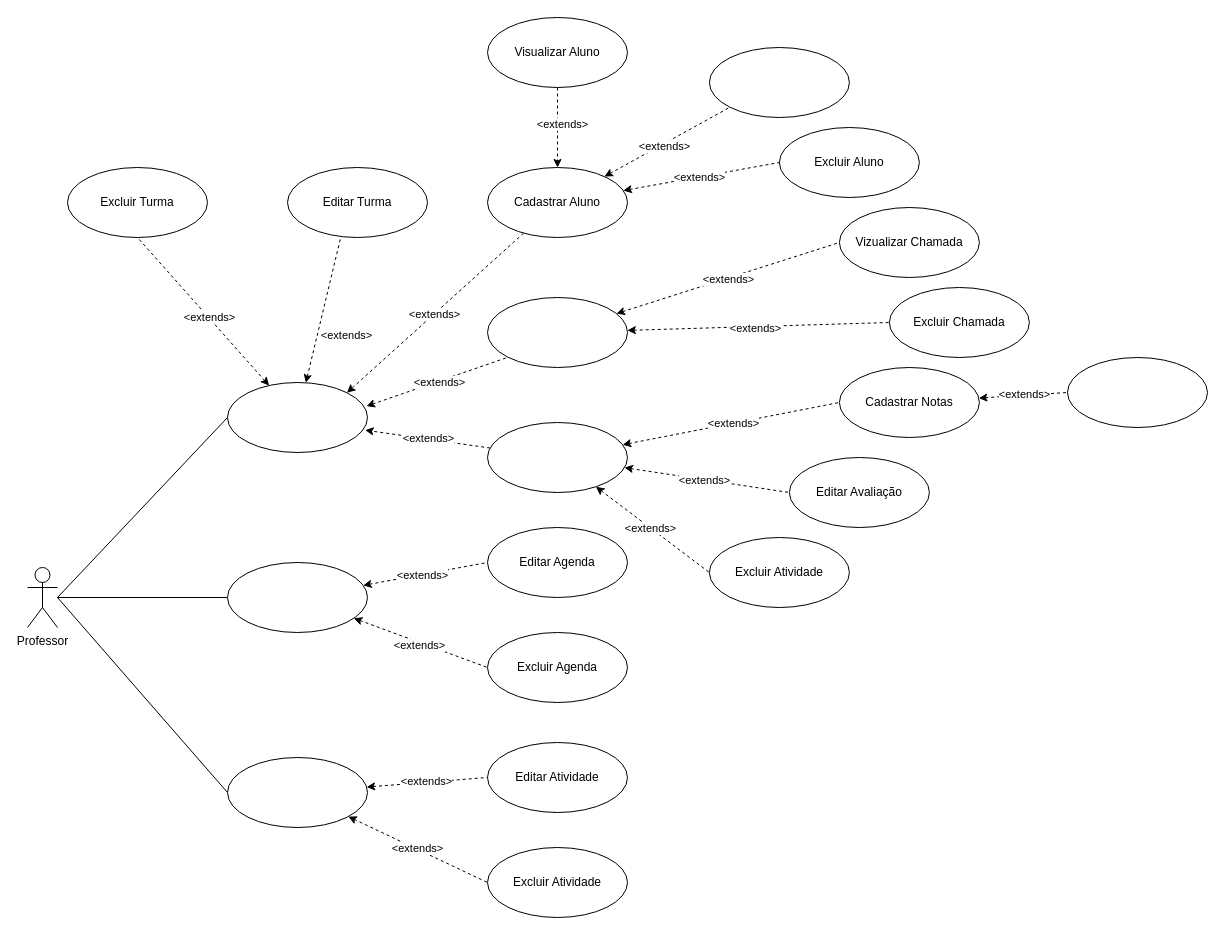
The diagram is 1225 pixels wide and 935 high, and some of its shapes have lost their labels. Each missing label, with the centre of its shape:
Cadastrar Agenda: [297,597]
Cadastrar Atividade: [297,792]
Cadastrar Avaliação: [557,457]
Cadastrar Chamada: [557,332]
Cadastrar Turma: [297,417]
Editar Aluno: [778,82]
Editar Nota: [1137,392]
